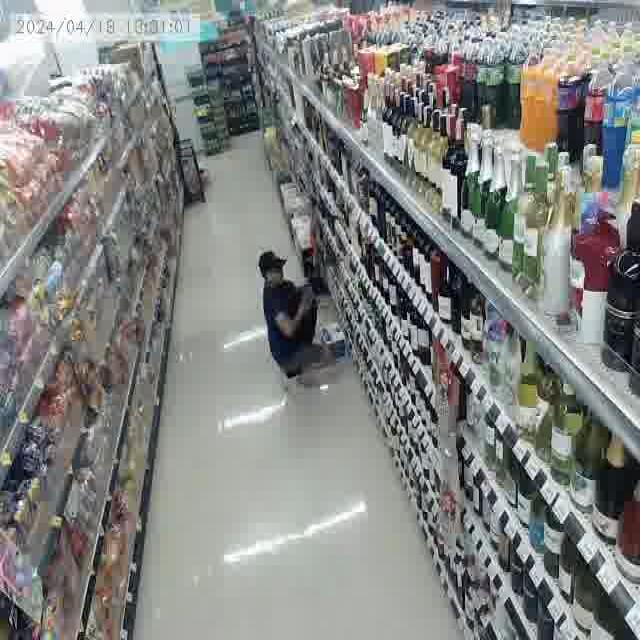shoplifting: (243, 229, 344, 404)
